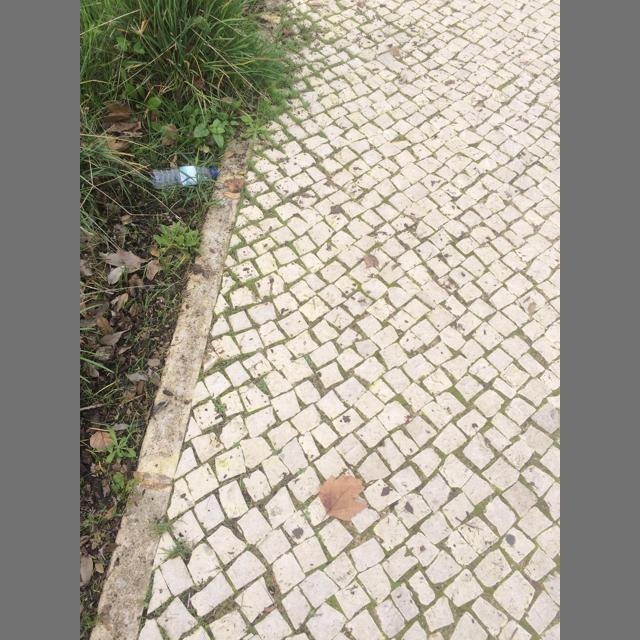litter: (150, 165, 218, 189)
